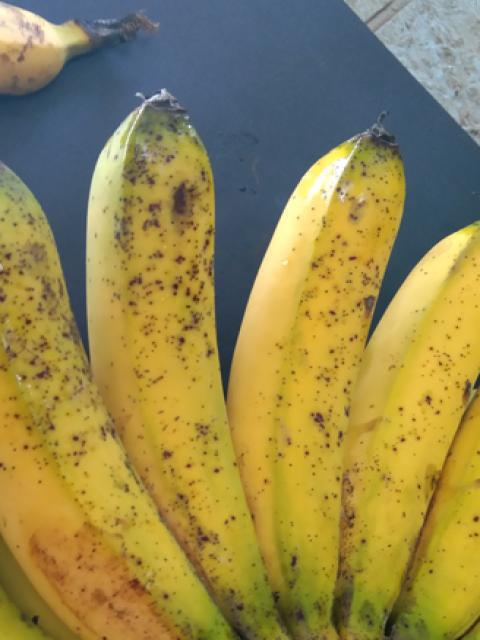ripe: (0, 148, 234, 639), (71, 87, 269, 615), (235, 127, 411, 623), (321, 195, 479, 639)
